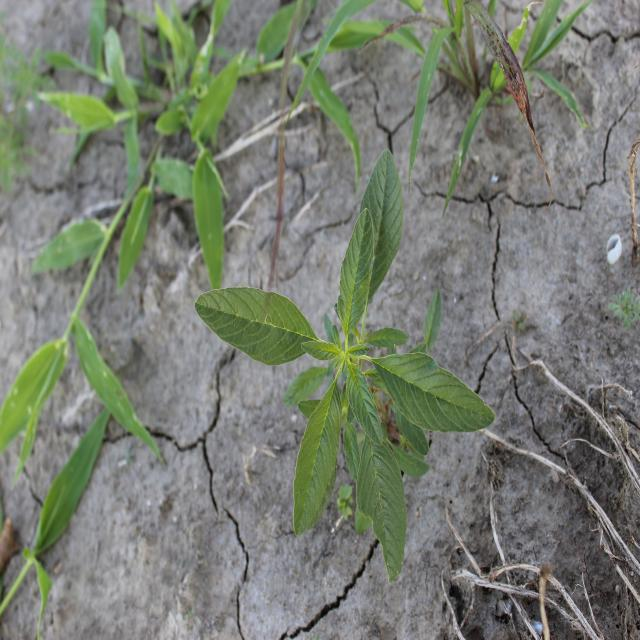Ragweed: (608, 286, 639, 329)
Waterhemp: (192, 144, 498, 585)
